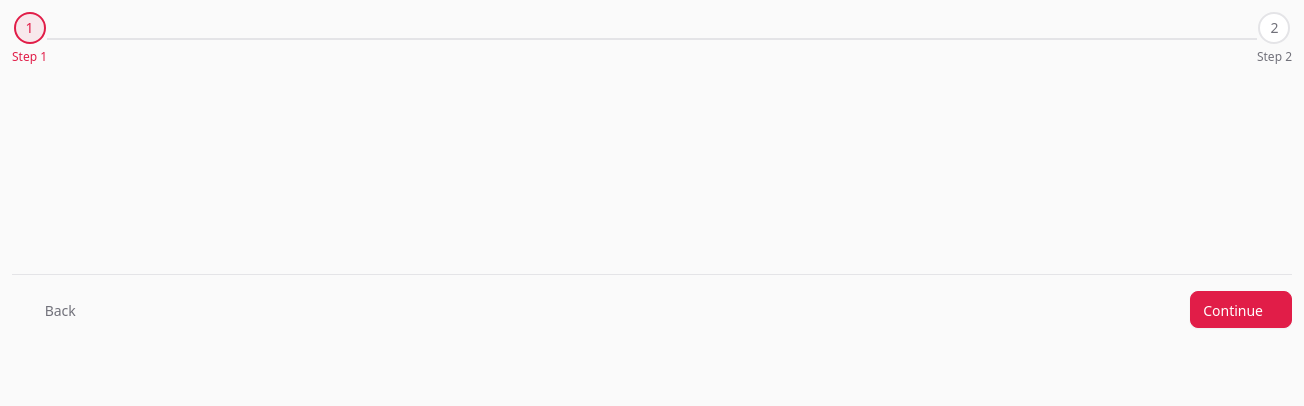
Test case: LuFormWizard › validates before proceeding
Click the button "Continue".
click(1241, 310)  # box x1=1190 y1=291 x2=1292 y2=328
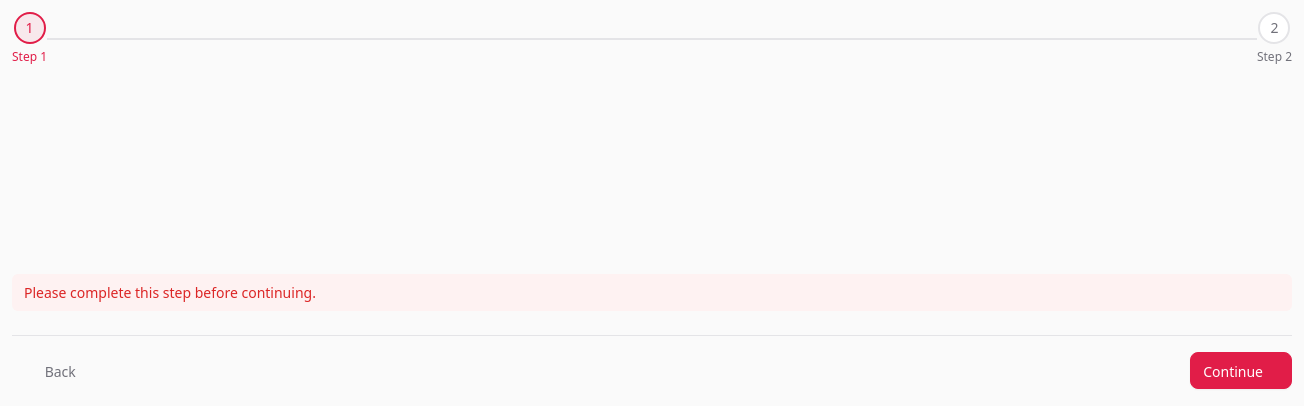
expect the text "Please complete this step before continuing." is shown: met, box x1=12 y1=274 x2=1292 y2=311
